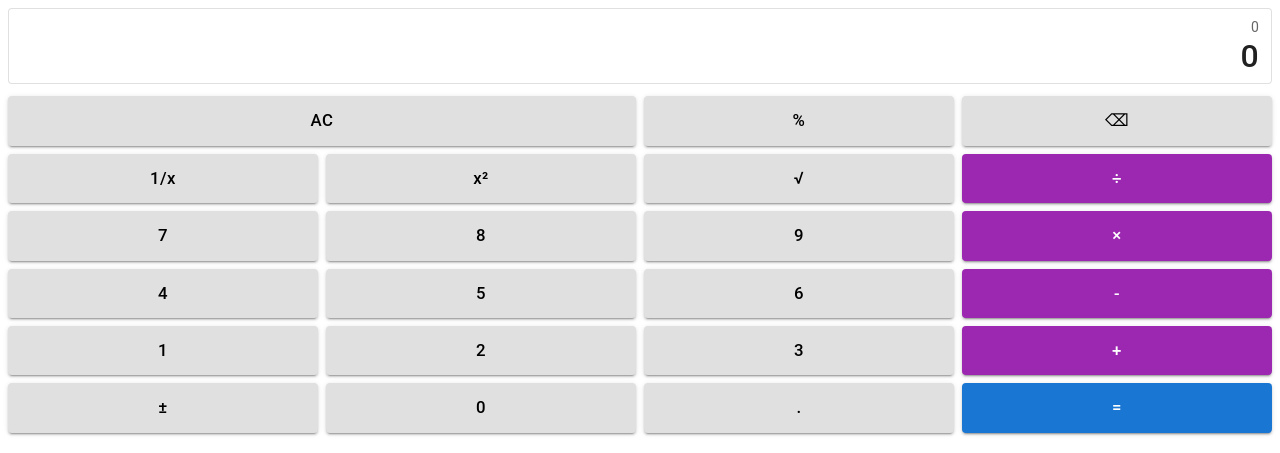
<Calculator /> (MUI skin) › flips the contextual clear key AC -> C -> AC
Expected: the button with test id "calc-key-clear" reads "AC", [8,96,636,146]
// A live entry turns the key into C (clear entry only).
Click the button with test id "calc-key-7" at (163, 236), box [8,211,318,261]
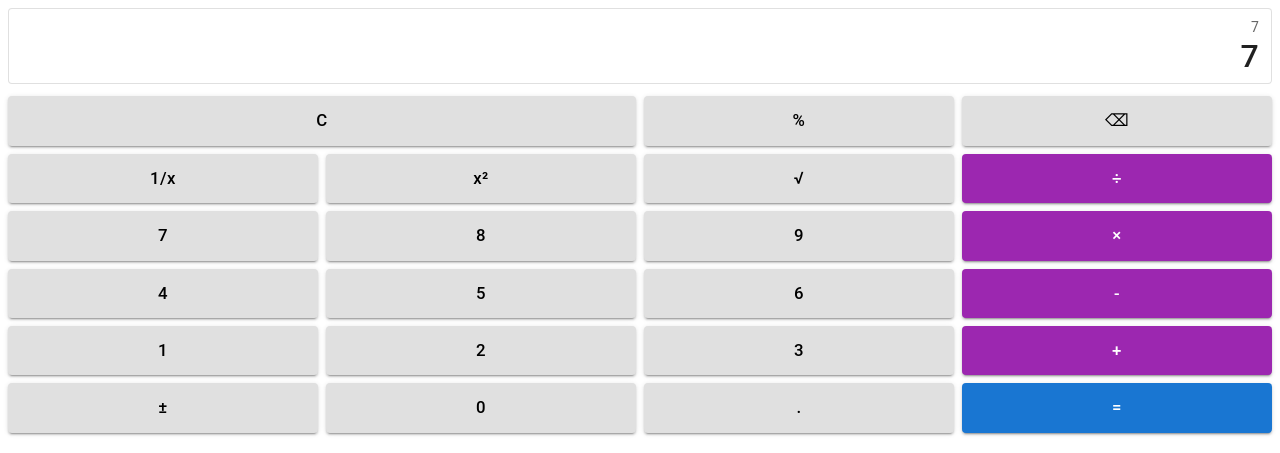
Result: the button with test id "calc-key-clear" reads "C"
// C clears just the entry and drops back to AC.
Click the button with test id "calc-key-clear" at (322, 121), box [8,96,636,146]
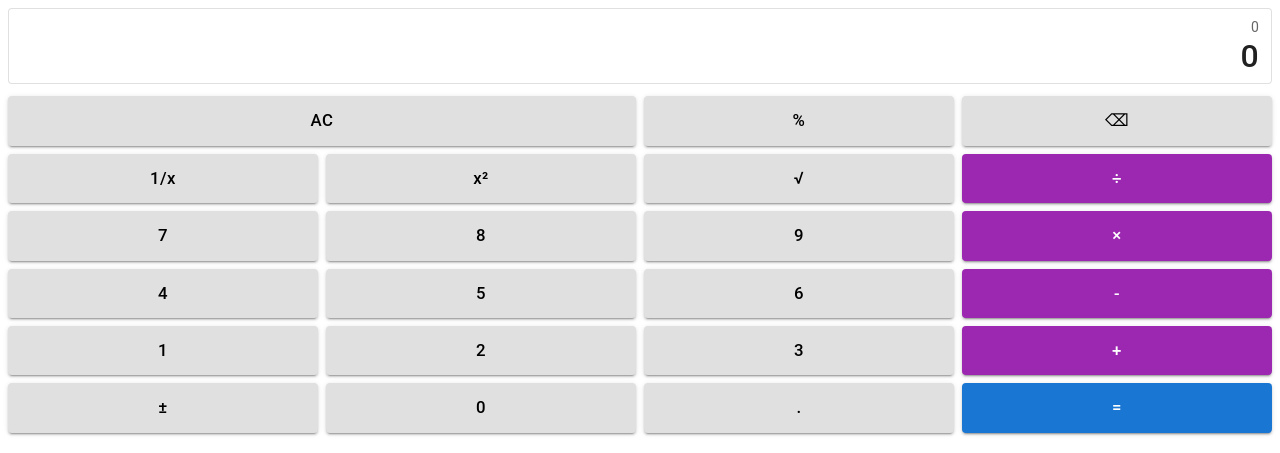
Result: the text with test id "calculator-display" reads "0" at [1240,37,1259,75]
Result: the button with test id "calc-key-clear" reads "AC" at [8,96,636,146]
